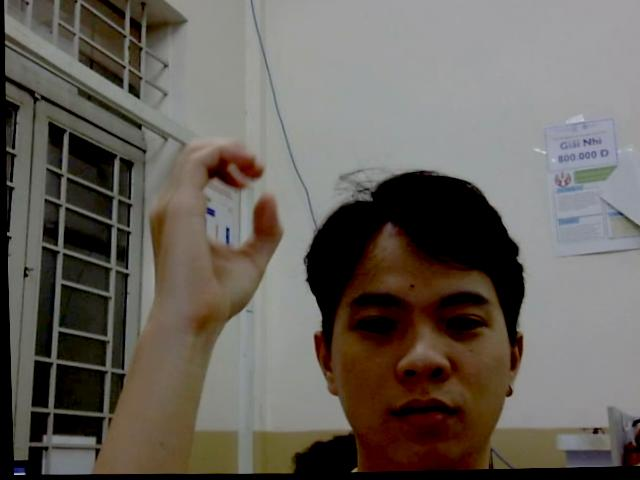C: (141, 133, 286, 329)
